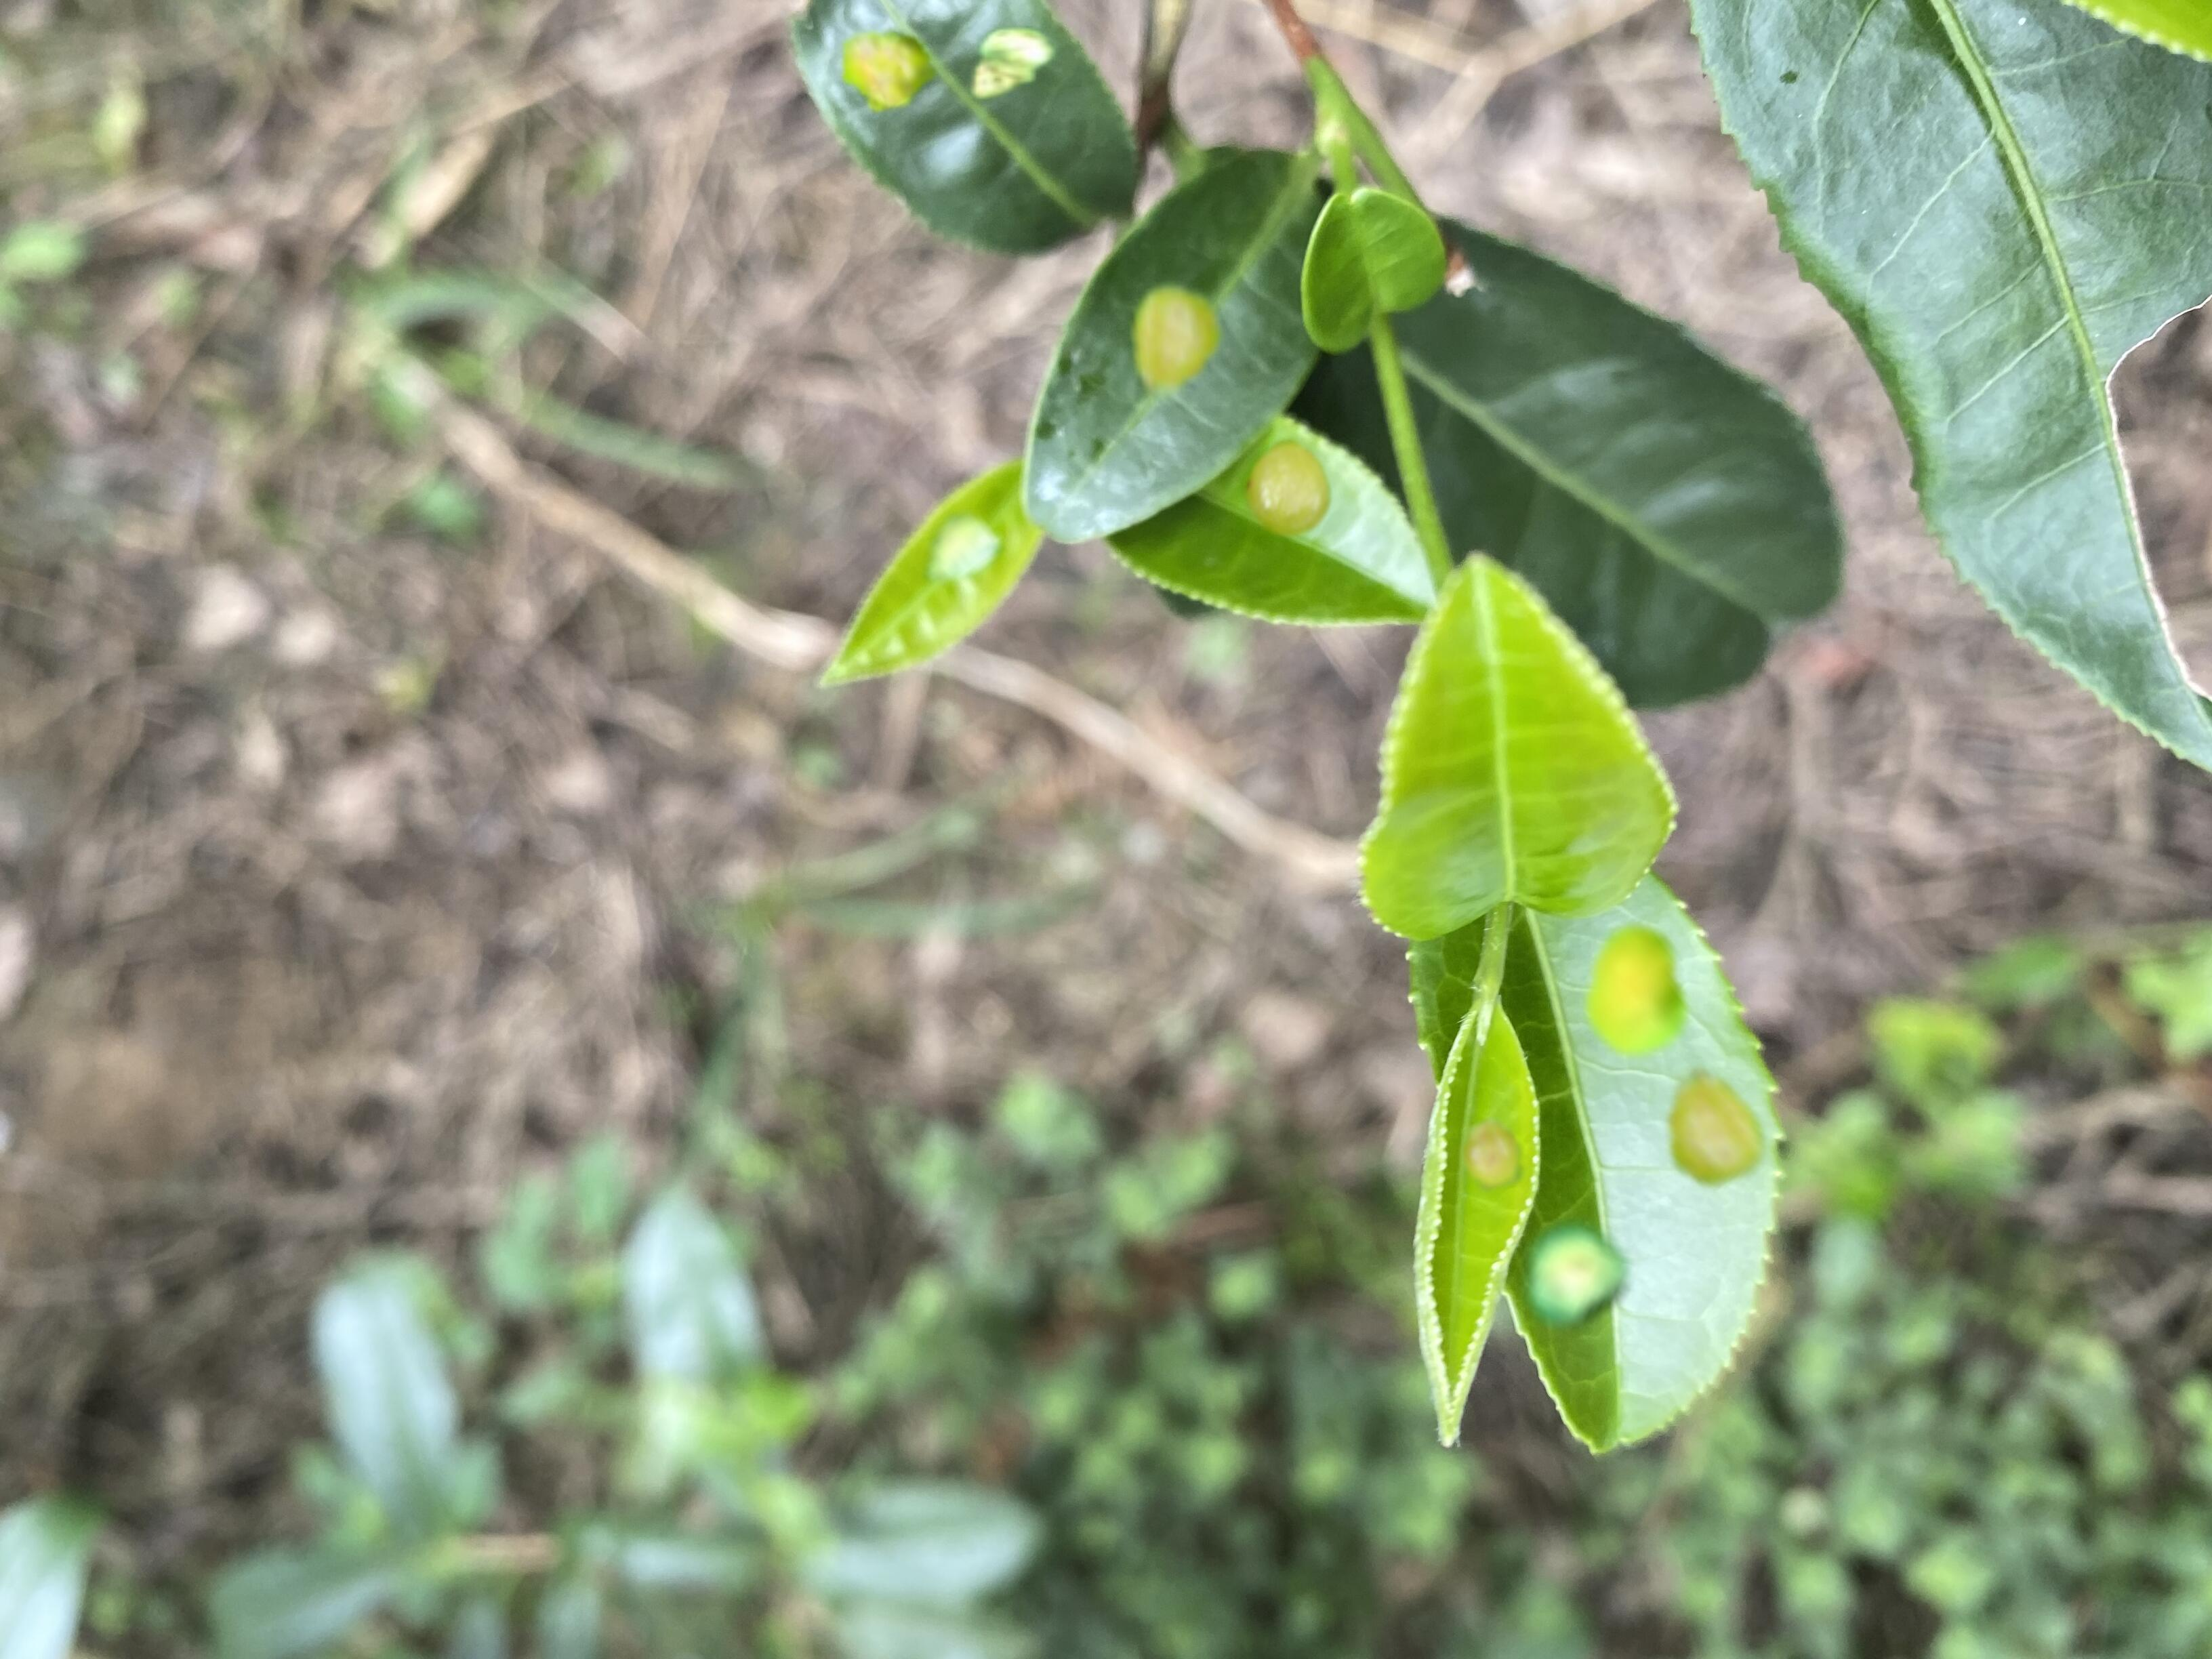chabing_high: (1409, 873, 1791, 1457), (791, 0, 1143, 256)
chabing_low: (1021, 143, 1324, 544), (1106, 411, 1437, 626), (1413, 1000, 1540, 1445), (819, 464, 1050, 687)
chihuo_low: (1686, 3, 2212, 774)
healthy: (1357, 551, 1681, 943), (1299, 186, 1449, 355)
